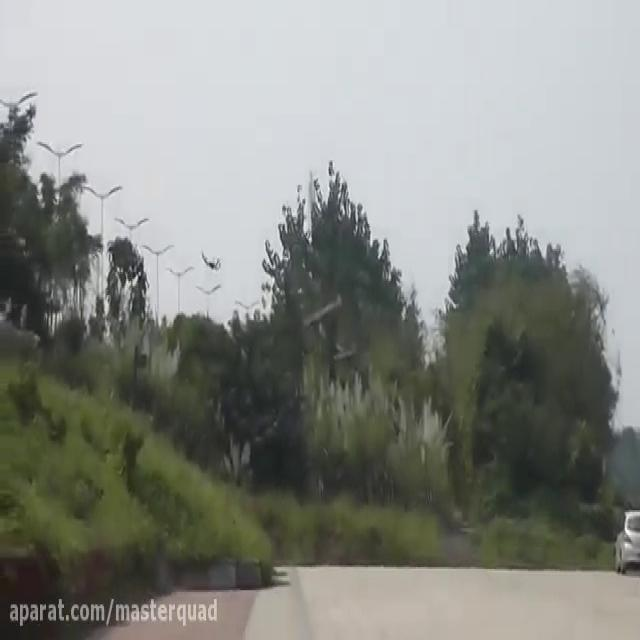drones: (193, 245, 231, 277)
